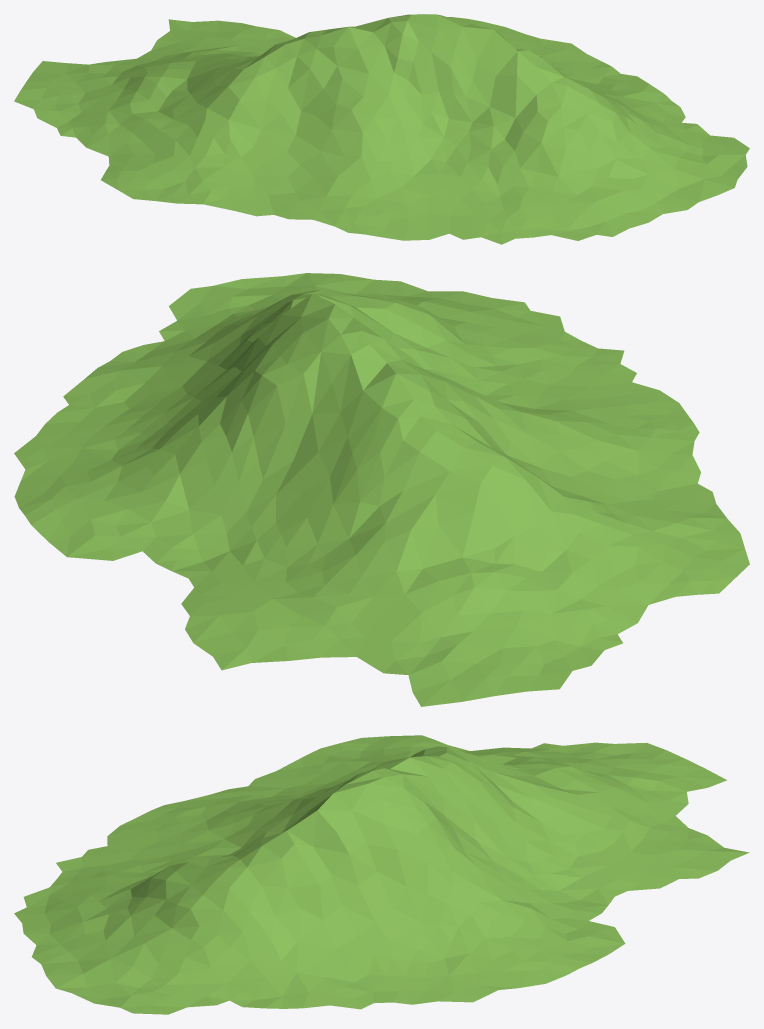
File: MT_Mountain_L_a_35_LOD.fbx
3 renders of one model, top to bottom at view 1: azimuth 30°, elevation 25°; view 2: azimuth 150°, elevation 25°; view 3: azimuth 270°, elevation 25°, orthographic. The views are drawn at different scales.
Visible parts, largest first — view 1: MT_Mountain_L_a_35_LOD0; view 2: MT_Mountain_L_a_35_LOD0; view 3: MT_Mountain_L_a_35_LOD0.
Part boxes in pixels (x1,y1,x2,y2): MT_Mountain_L_a_35_LOD0: (14, 14, 749, 244); MT_Mountain_L_a_35_LOD0: (14, 273, 749, 706); MT_Mountain_L_a_35_LOD0: (14, 735, 749, 1014).
Size of what is drawn, in the model's own units: 8037 by 1622 by 8945.
